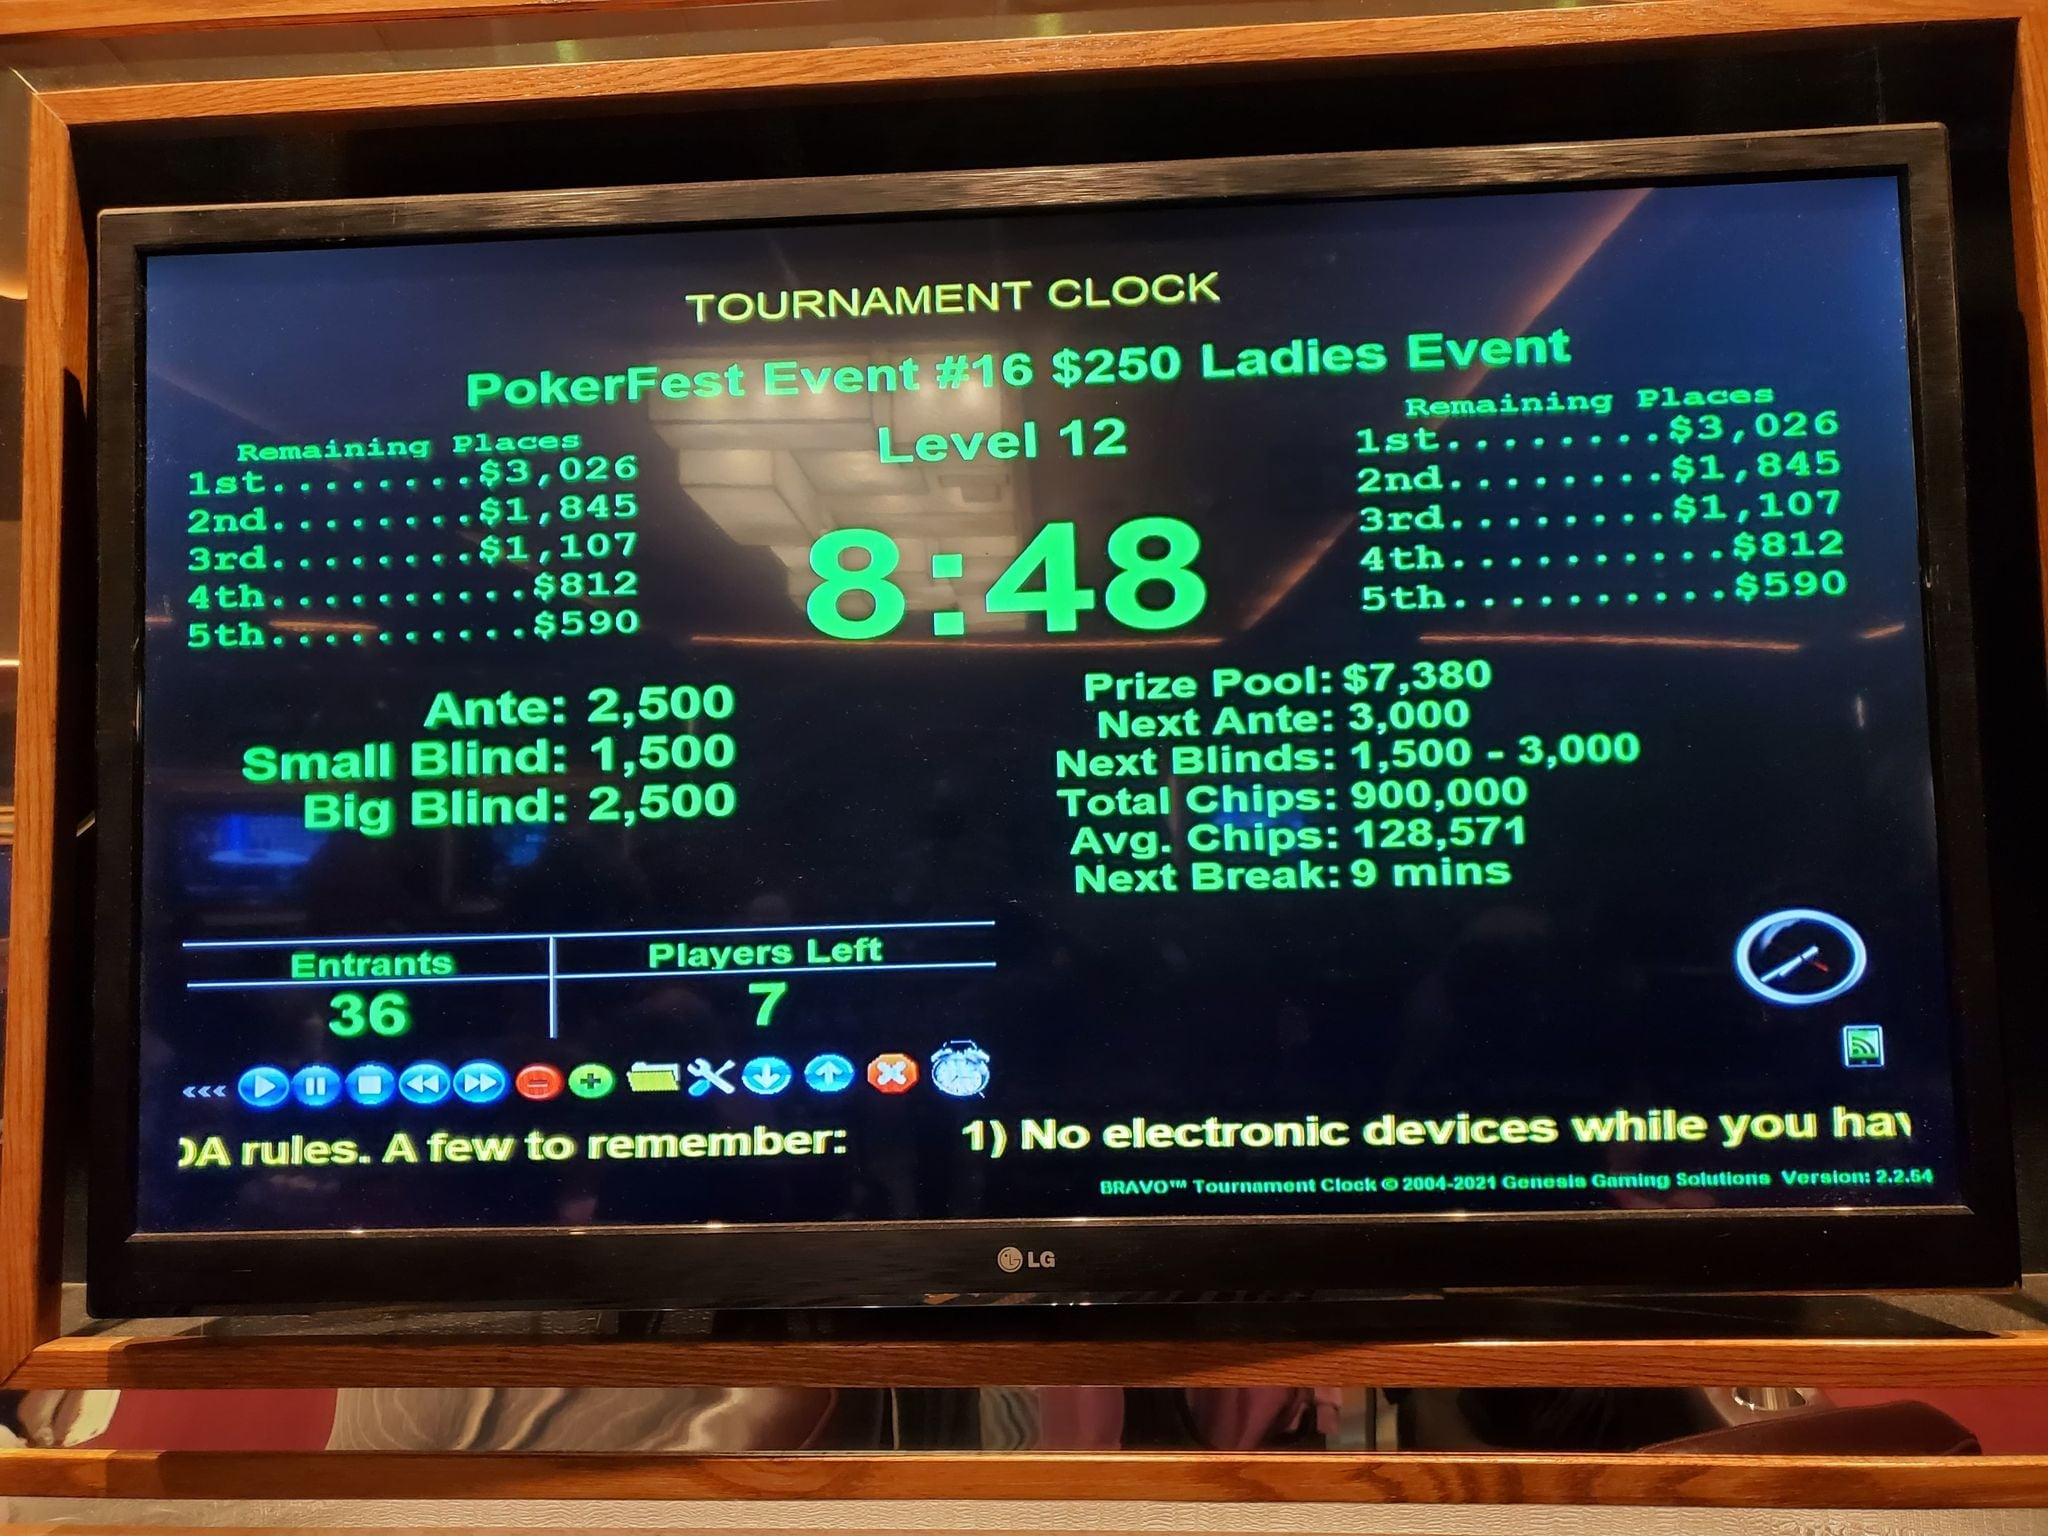PlayersLeft: (550, 916, 1006, 1046)
Remaining: (1347, 378, 1868, 622), (178, 425, 653, 655)
TournamentClock: (189, 322, 1883, 1016)
